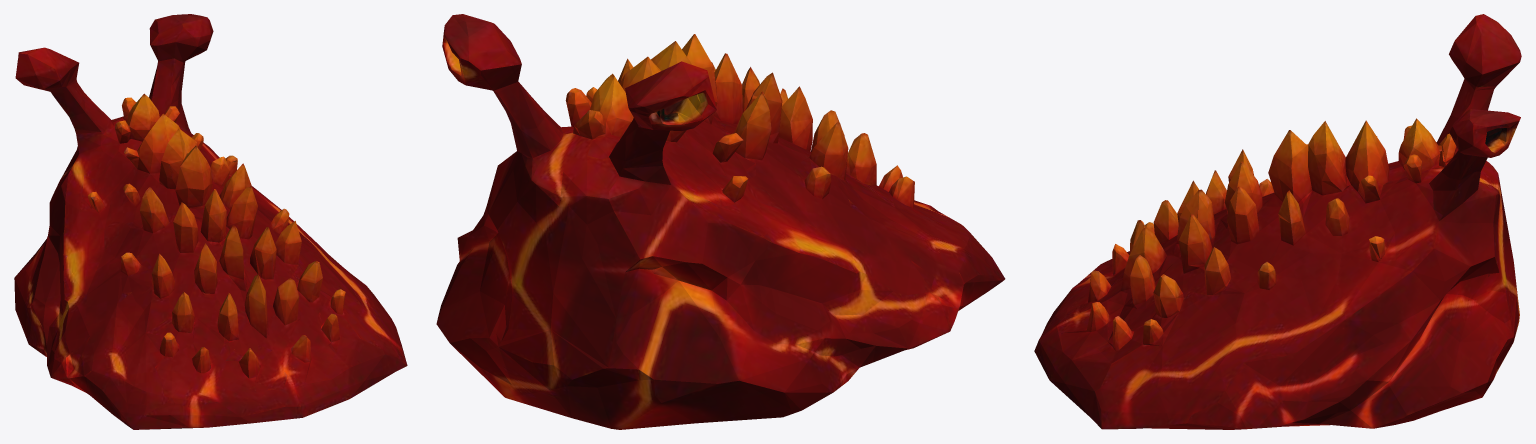
File: m_elite_limace.glb
The picture shows the model from 3 angles, left to right: view 1: azimuth 30°, elevation 25°; view 2: azimuth 150°, elevation 25°; view 3: azimuth 270°, elevation 25°; orthographic projection. The views are drawn at different scales.
Parts seen in each view (by area): view 1: geometry_0; view 2: geometry_0; view 3: geometry_0.
Boxes of the visible parts, bbox=[...] form: geometry_0: bbox=[14, 14, 407, 429]; geometry_0: bbox=[436, 14, 1005, 429]; geometry_0: bbox=[1034, 14, 1521, 429].
Size of the model in its own units: 0.8806 by 0.6981 by 0.9952.
1 material, 1 textured.
